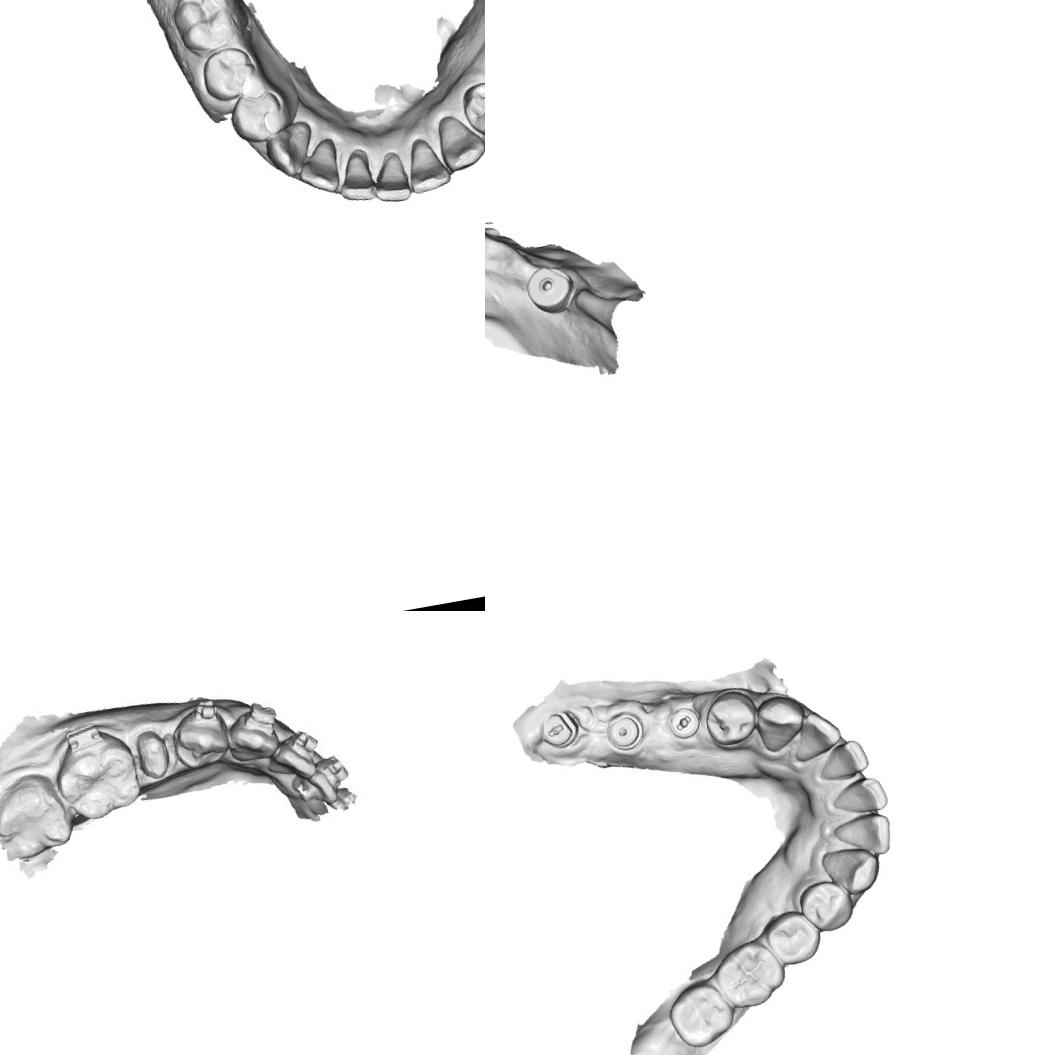canine: (220, 709, 287, 773), (750, 690, 810, 756), (820, 841, 884, 899), (431, 107, 485, 174), (262, 118, 321, 177)
crown: (127, 722, 176, 785)
implant: (520, 259, 576, 315), (600, 706, 649, 754)
implant_minus: (536, 706, 582, 752), (664, 703, 703, 742)
incisor: (830, 808, 895, 861), (786, 706, 844, 764), (365, 142, 412, 206), (268, 733, 324, 786), (404, 134, 452, 194), (294, 139, 342, 199), (828, 773, 890, 818), (814, 736, 872, 784), (330, 148, 377, 206), (302, 766, 342, 806)
molar: (53, 730, 144, 821), (0, 769, 76, 864), (709, 934, 790, 1013), (663, 976, 739, 1052), (167, 0, 239, 57)
premolar: (165, 704, 233, 775), (761, 905, 824, 968), (700, 685, 762, 749), (228, 86, 293, 146), (795, 875, 857, 936), (198, 43, 258, 102), (457, 75, 485, 137)
